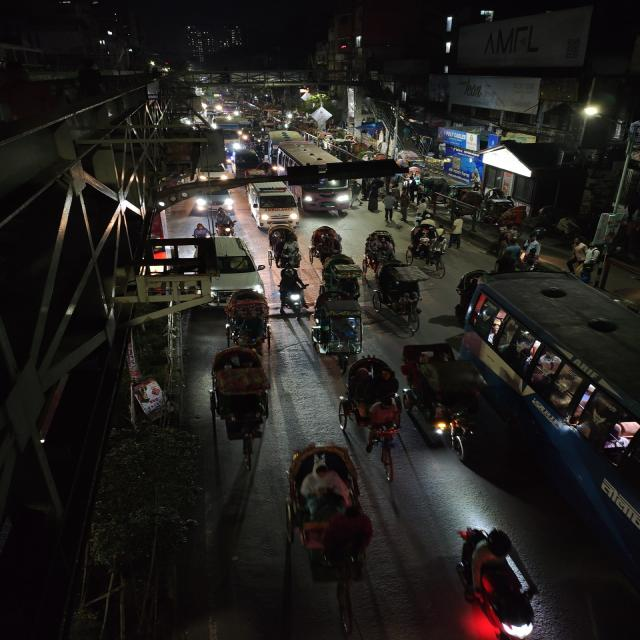bus: (458, 270, 640, 602), (297, 150, 356, 214)
car: (206, 234, 266, 300), (245, 180, 300, 228), (196, 186, 236, 212), (232, 150, 268, 178), (200, 162, 232, 182)
cng: (449, 520, 544, 640)
motorcycle: (277, 266, 306, 317)
pedestrian: (447, 212, 471, 250), (381, 193, 400, 226), (365, 181, 384, 211)
rickshaw: (275, 436, 372, 638), (203, 344, 278, 464), (336, 353, 406, 465), (405, 350, 483, 450), (308, 290, 368, 363), (372, 268, 427, 332), (222, 289, 273, 351), (410, 225, 449, 272), (324, 253, 365, 297), (266, 223, 303, 270), (361, 228, 399, 270), (308, 223, 344, 264)
